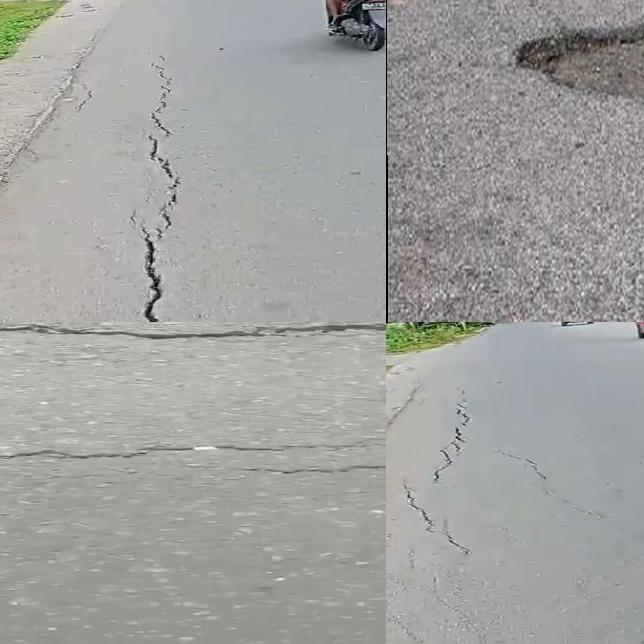Lubang: (512, 28, 644, 102)
Melintang: (0, 322, 386, 356)
Memanjang: (125, 49, 188, 322), (391, 377, 478, 562)
